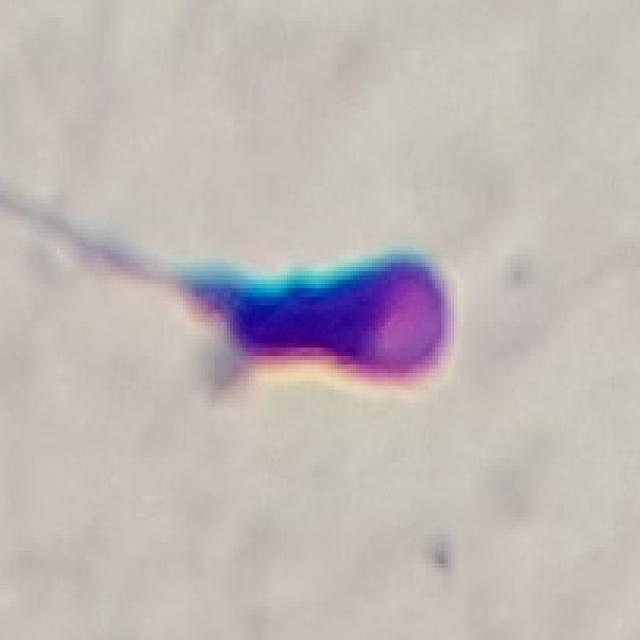abnormal sperm: (5, 192, 470, 411)
